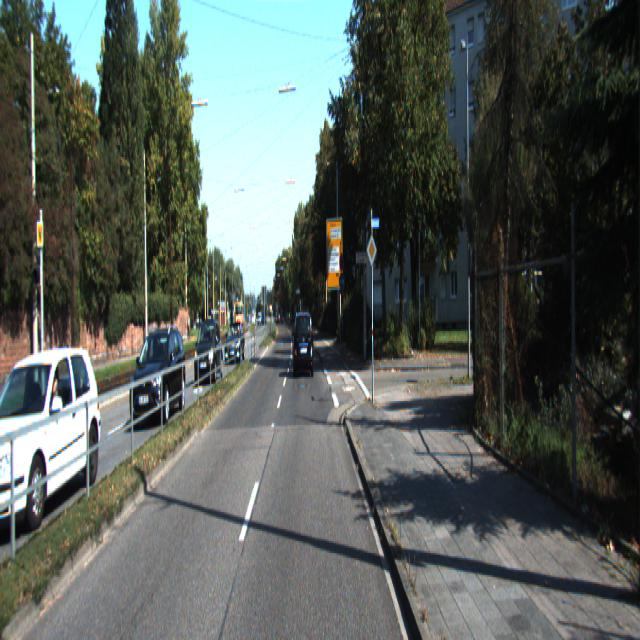Car: (0, 334, 104, 536), (130, 325, 187, 433), (194, 315, 223, 383), (294, 308, 314, 376), (224, 321, 246, 363)
